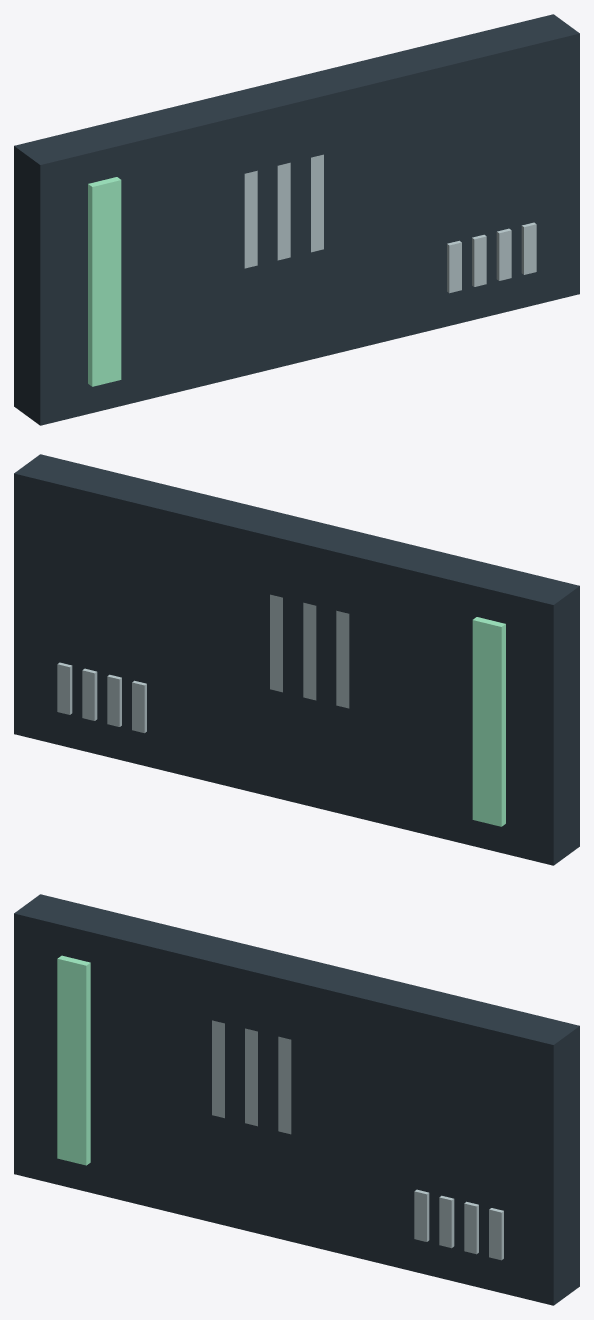
Rendered from sector_3.glb.
3 views of the same model, one above another, from view 1: azimuth 30°, elevation 25°; view 2: azimuth 150°, elevation 25°; view 3: azimuth 330°, elevation 25° (orthographic).
Visible parts, largest first — view 1: SectorNumeral.001; view 2: SectorNumeral.001; view 3: SectorNumeral.001.
Part boxes in pixels (x1,y1,x2,y2): SectorNumeral.001: (14, 14, 579, 425); SectorNumeral.001: (14, 454, 579, 865); SectorNumeral.001: (14, 894, 579, 1305).
Size of the model in its own units: 1.3 by 0.6 by 0.146.
